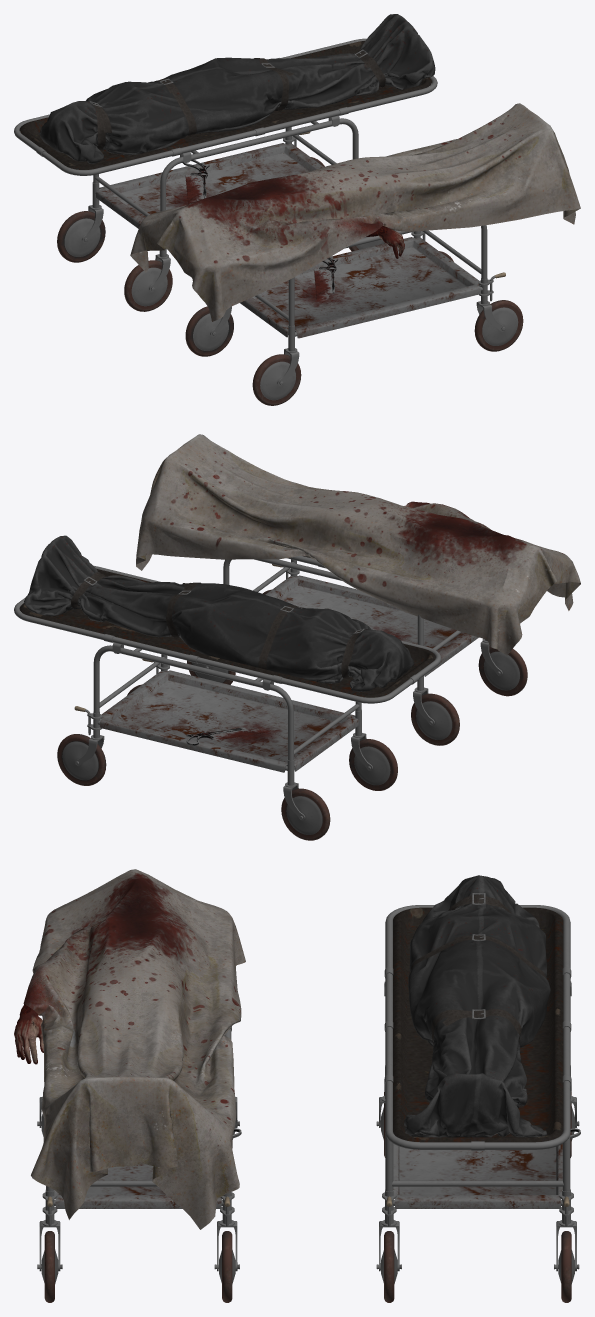
The model's file is Body_bag_pbr_blender.fbx.
The picture shows the model from 3 angles, top to bottom: view 1: azimuth 30°, elevation 25°; view 2: azimuth 150°, elevation 25°; view 3: azimuth 270°, elevation 25°; orthographic projection. The views are drawn at different scales.
Visible parts, largest first — view 1: Pokrivalo, Bag, gurney 2, gurney 1, Saw1, Saw2, Arm; view 2: Pokrivalo, gurney 2, Bag, gurney 1, Saw2; view 3: Pokrivalo, gurney 2, Bag, gurney 1, Arm.
Boxes of the visible parts, x1,y1,x2,y2 form: Pokrivalo: [130, 103, 580, 321]; Bag: [39, 14, 435, 163]; gurney 2: [14, 38, 437, 311]; gurney 1: [185, 225, 523, 405]; Saw1: [314, 257, 338, 301]; Saw2: [182, 160, 209, 204]; Arm: [366, 226, 404, 258]; Pokrivalo: [136, 434, 580, 655]; gurney 2: [14, 565, 441, 840]; Bag: [24, 535, 413, 692]; gurney 1: [187, 556, 527, 745]; Saw2: [186, 727, 269, 745]; Pokrivalo: [23, 869, 245, 1229]; gurney 2: [376, 905, 579, 1302]; Bag: [404, 875, 550, 1137]; gurney 1: [37, 1026, 239, 1302]; Arm: [14, 1004, 43, 1064].
Bounding box in the file's own units: 204 × 99.31 × 192.
